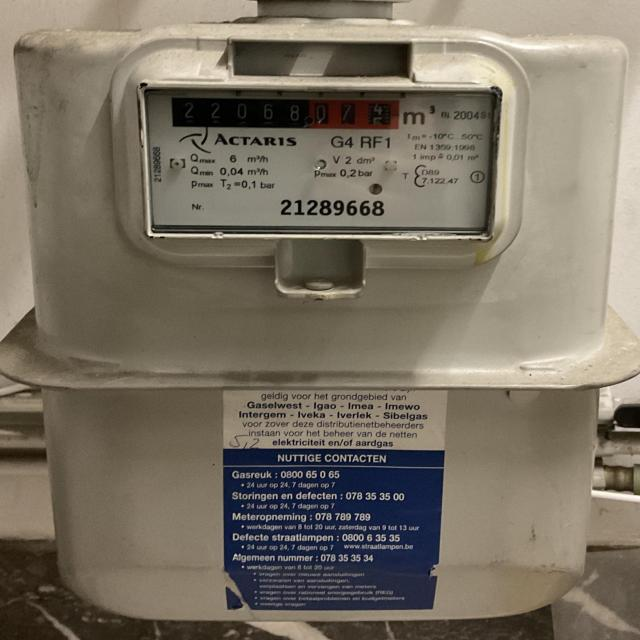gaz_meter: (143, 86, 492, 232)
indication: (169, 96, 403, 127)
